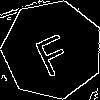F: (27, 24, 76, 79)
